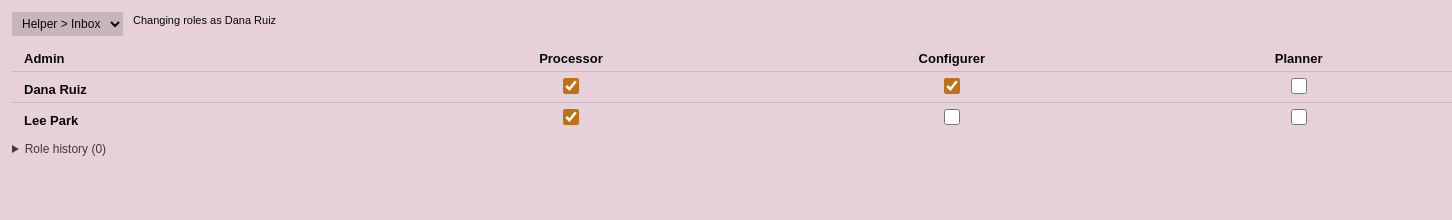
Test: Admin > Manager > Assignment › switches console and shows the reason when the server refuses a change
The width and height of the screenshot is (1452, 220).
Select "Writer > Shelf" in the dropdown named "Console" at (68, 24), box [12,12,123,36]
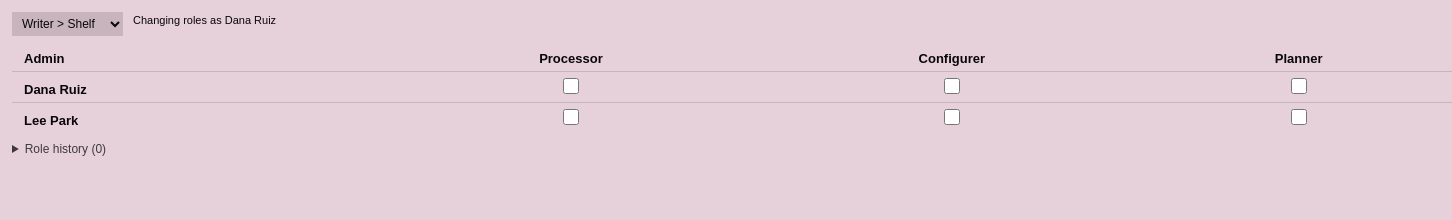
Result: the checkbox named "Dana Ruiz: Processor on Writer > Shelf" is not checked at [563,78,579,94]
Select "Helper > Inbox" in the dropdown named "Console" at (68, 24), box [12,12,123,36]
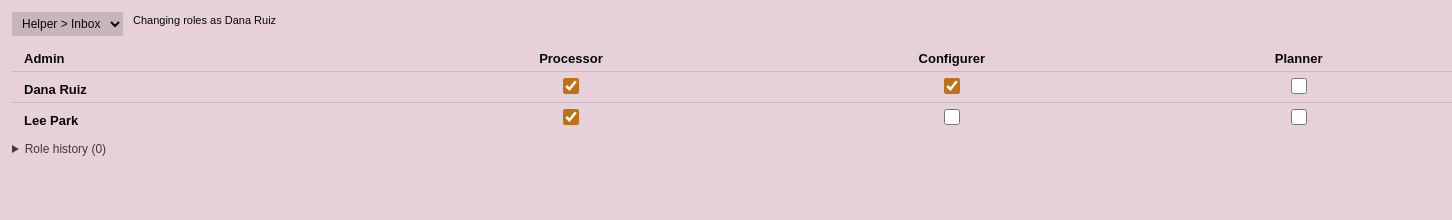
Click the checkbox named "Dana Ruiz: Configurer on Helper > Inbox" at (952, 86), box [944,78,960,94]
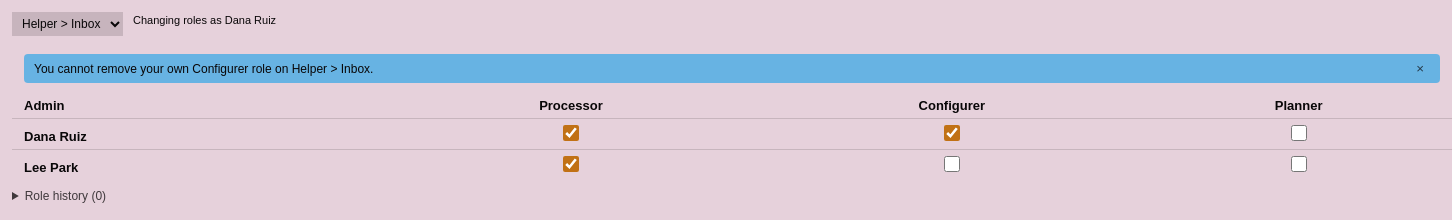
Result: the message shows "You cannot remove your own Configurer role" at [34,62,373,76]
